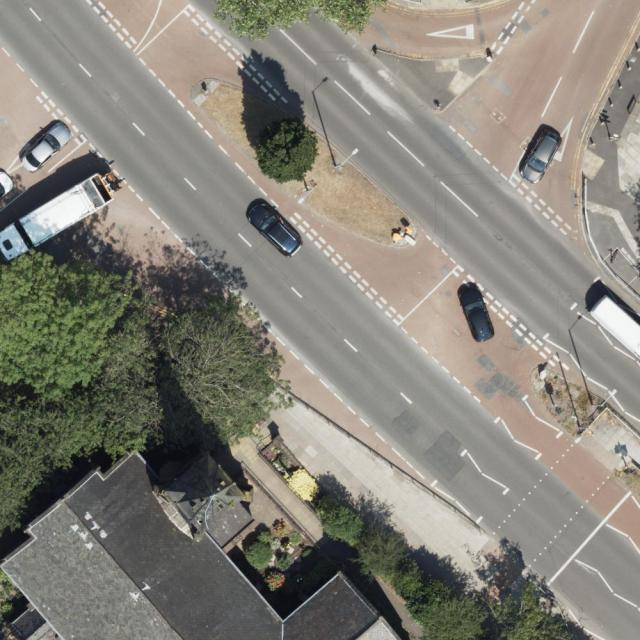roof: (0, 450, 404, 640)
